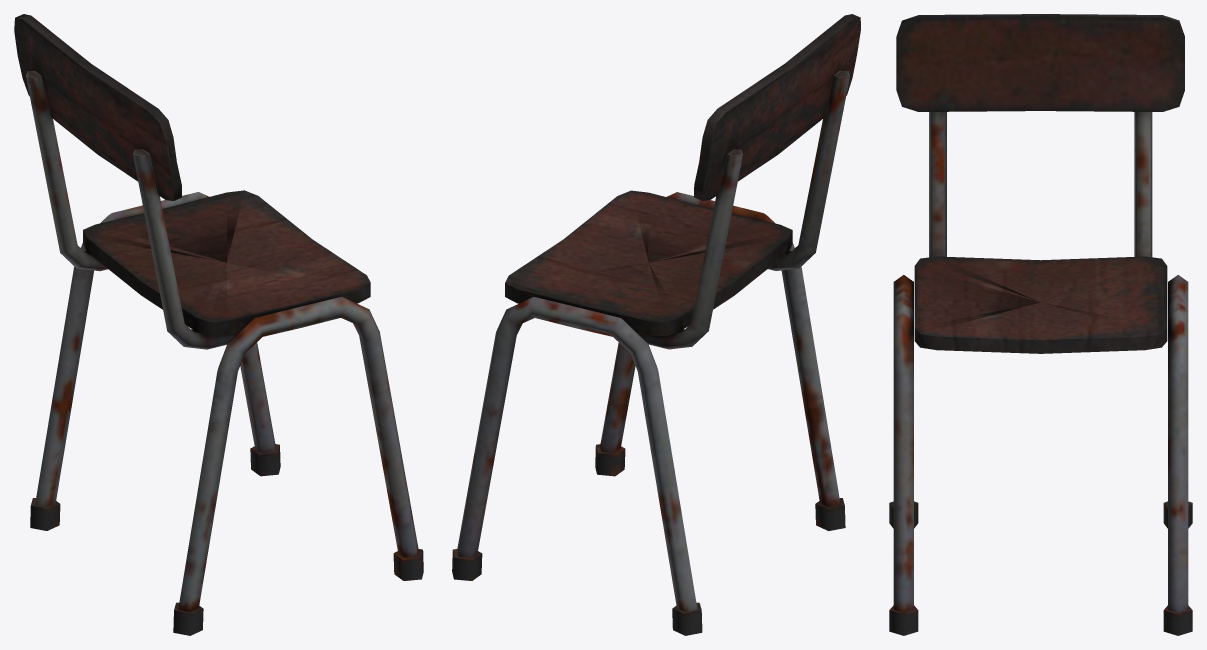
Rendered from L_Chair.FBX.
3 views of the same model, side by side, from view 1: azimuth 30°, elevation 25°; view 2: azimuth 150°, elevation 25°; view 3: azimuth 270°, elevation 25° (orthographic). The views are drawn at different scales.
Visible parts, largest first — view 1: L_Chair; view 2: L_Chair; view 3: L_Chair.
Boxes of the visible parts, bbox=[...] form: L_Chair: bbox=[14, 14, 423, 635]; L_Chair: bbox=[452, 14, 860, 635]; L_Chair: bbox=[889, 14, 1192, 635].
Bounding box in the file's own units: 54.08 × 98.5 × 54.37.
